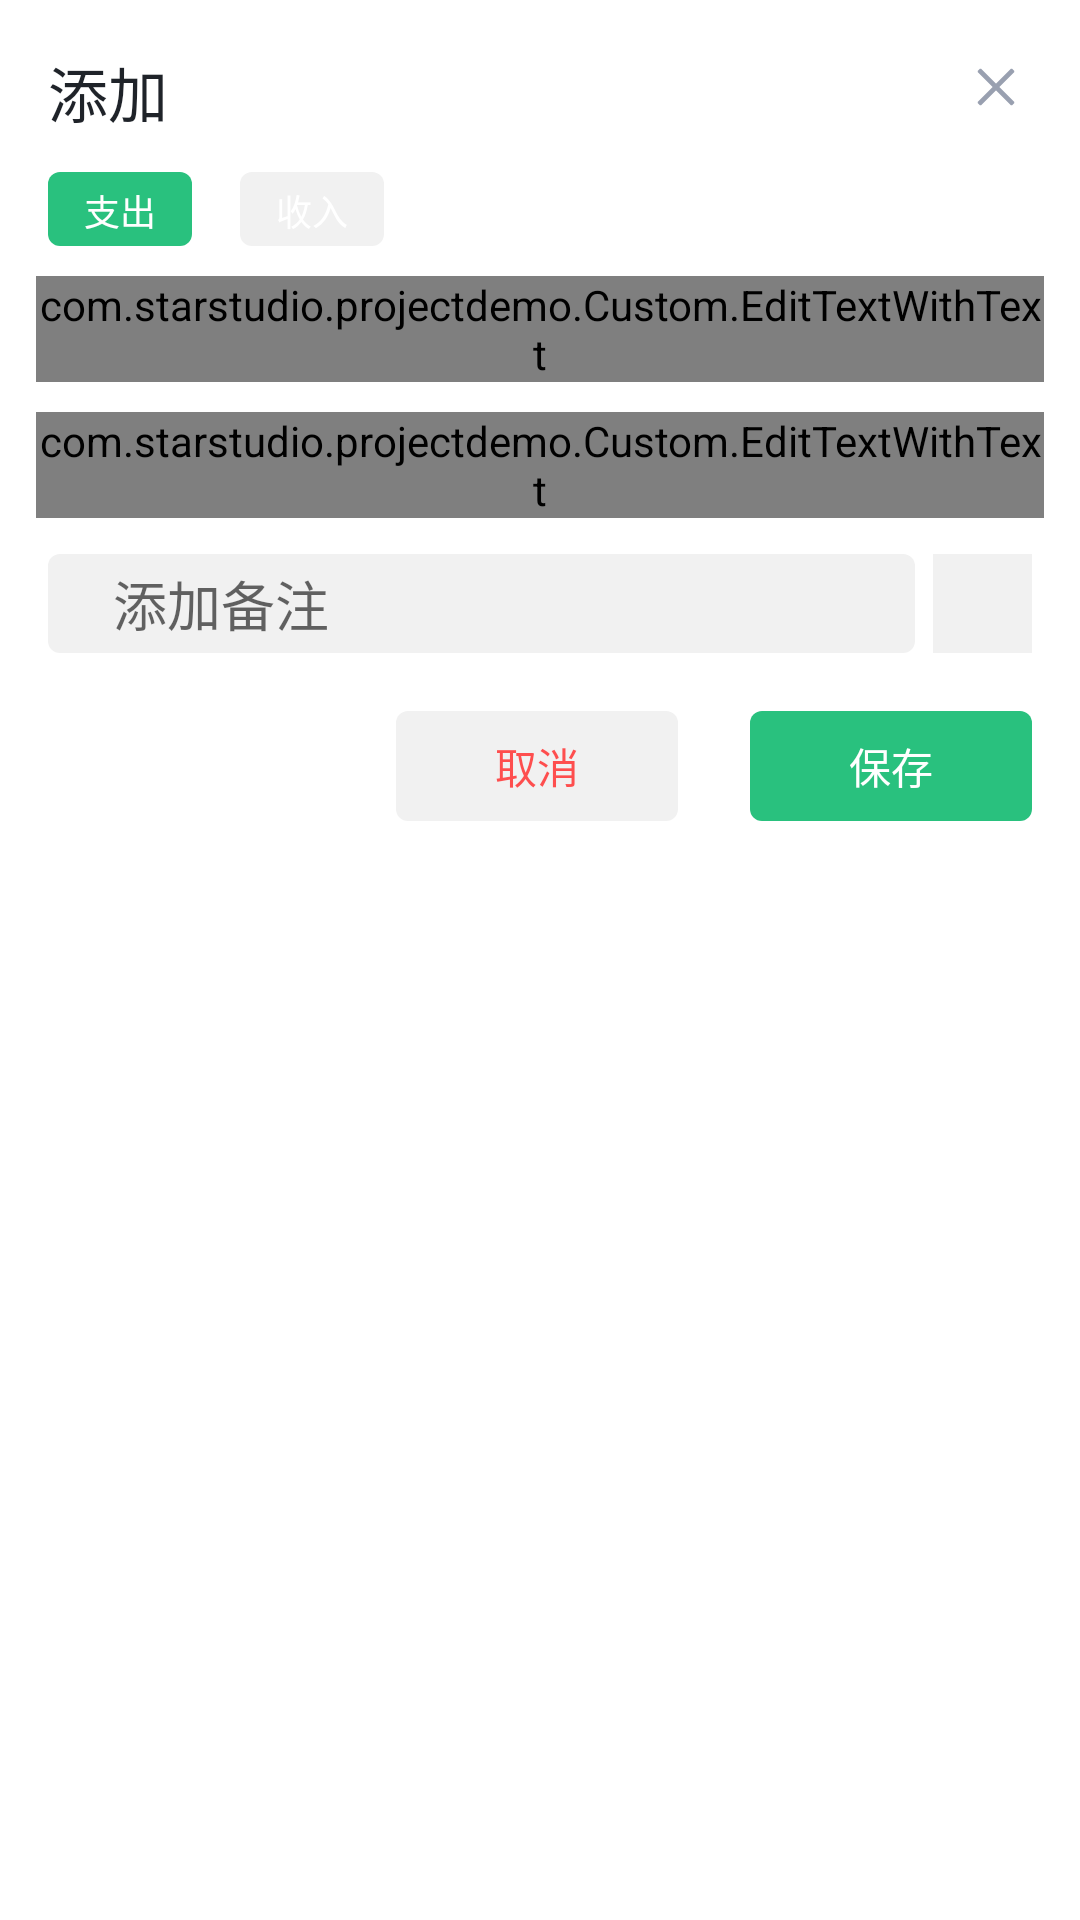

Where icons sit on this 1080px×1920px app screen, as (x1, y1, x2, y2):
acco add cancel: (977, 68, 1015, 106)
